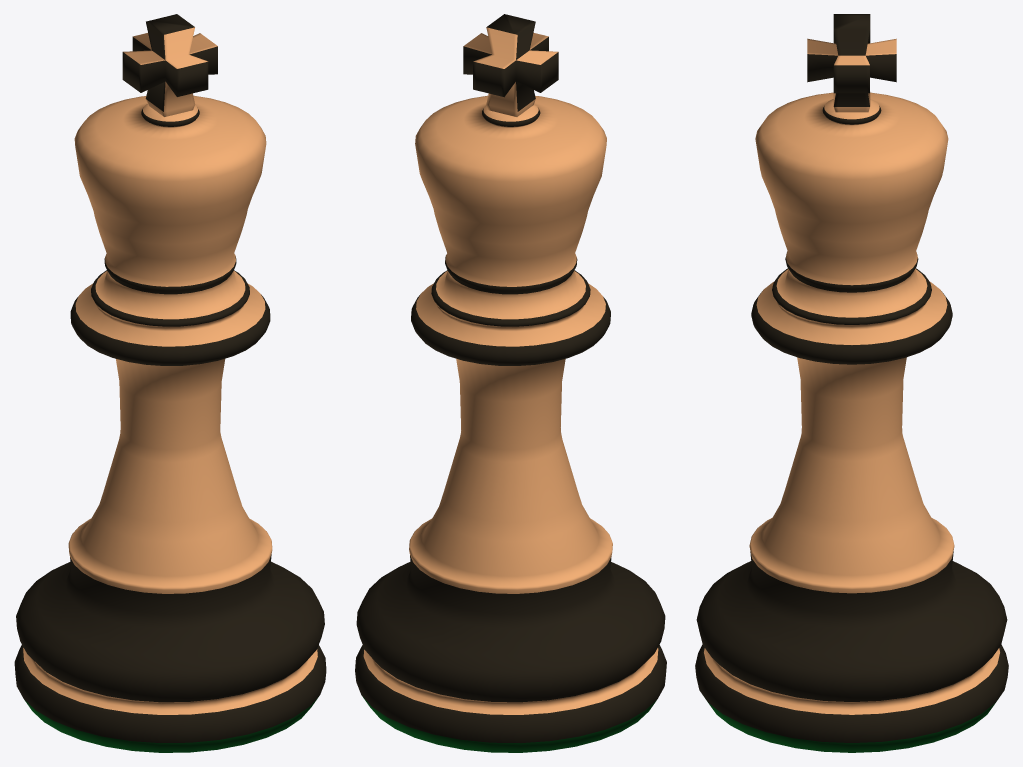
Rendered from KingWhite.fbx.
The picture shows the model from 3 angles, left to right: view 1: azimuth 30°, elevation 25°; view 2: azimuth 150°, elevation 25°; view 3: azimuth 270°, elevation 25°; orthographic projection.
Visible parts, largest first — view 1: White King; view 2: White King; view 3: White King.
Part boxes in pixels (x1,y1,x2,y2): White King: [14, 14, 326, 752]; White King: [355, 14, 666, 752]; White King: [695, 14, 1008, 752].
Size of the model in its own units: 5.04 by 11.88 by 5.04.
